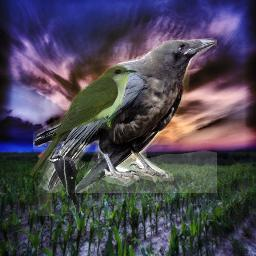Crow: (33, 38, 217, 193)
Cuckoo: (30, 65, 138, 177)
Woodpecker: (38, 146, 85, 216)
